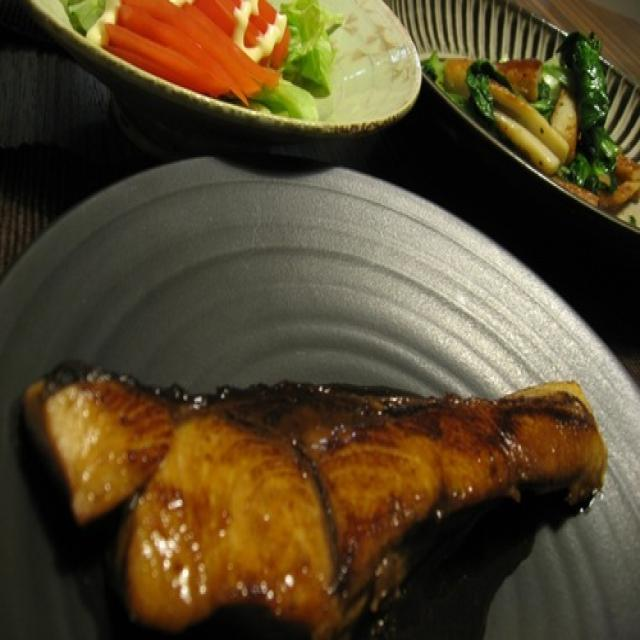熟制海鲜: (17, 346, 617, 640)
